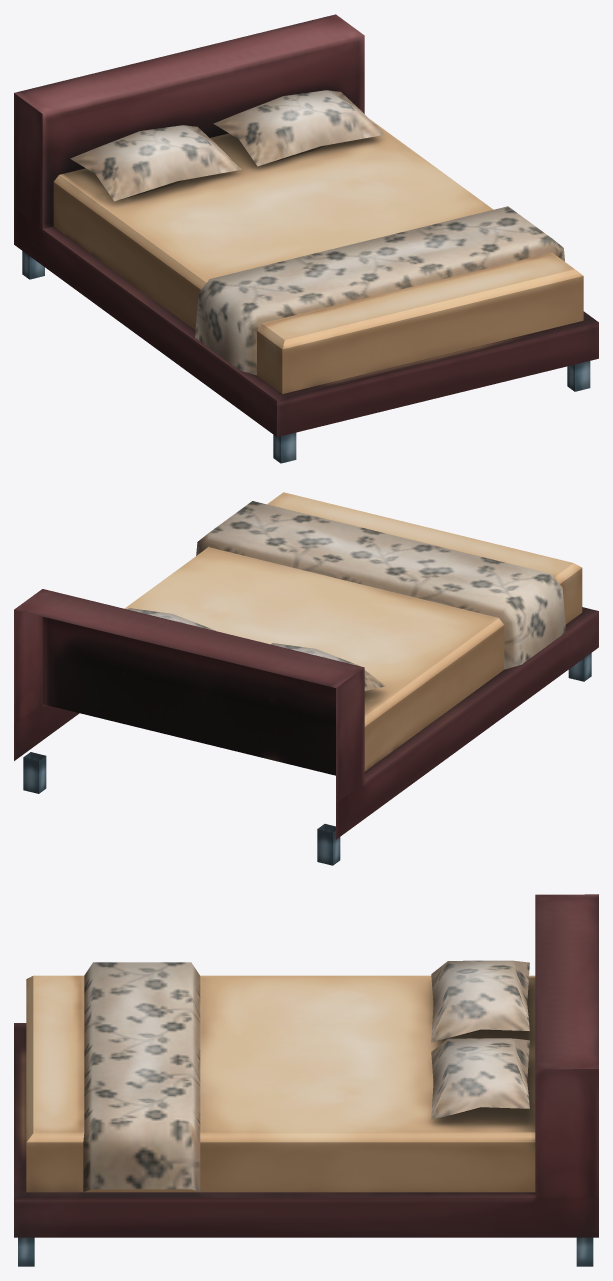
Rendered from bed_02.DAE.
3 renders of one model, top to bottom at view 1: azimuth 30°, elevation 25°; view 2: azimuth 150°, elevation 25°; view 3: azimuth 270°, elevation 25°, orthographic. The views are drawn at different scales.
Visible parts, largest first — view 1: bed_02; view 2: bed_02; view 3: bed_02.
Boxes of the visible parts, <box> form: bed_02: <box>14,14,598,463</box>; bed_02: <box>14,492,598,865</box>; bed_02: <box>14,894,598,1266</box>.
Bounding box in the file's own units: 220 × 116 × 306.
1 material, 1 textured.
